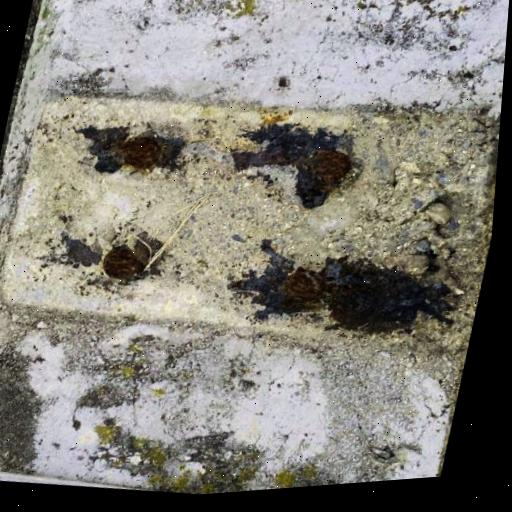exposed_rebar: (284, 267, 326, 305), (307, 149, 351, 185), (121, 135, 162, 171), (103, 245, 144, 279)
